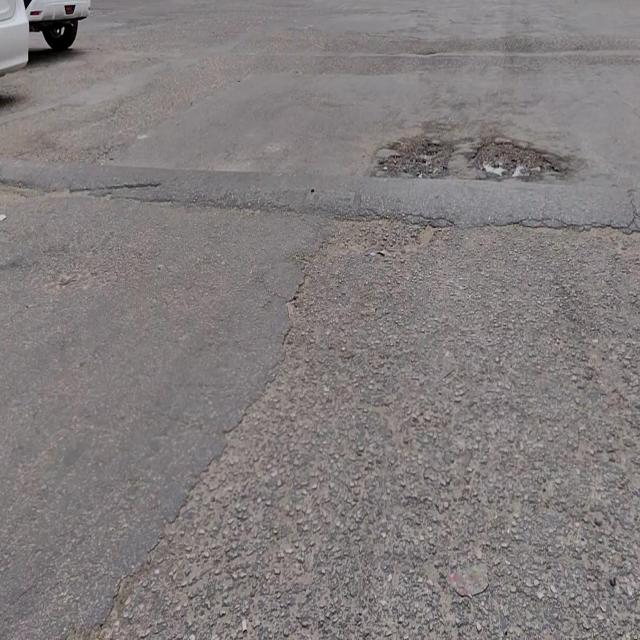Potholes: (468, 137, 556, 184), (377, 130, 454, 177)
